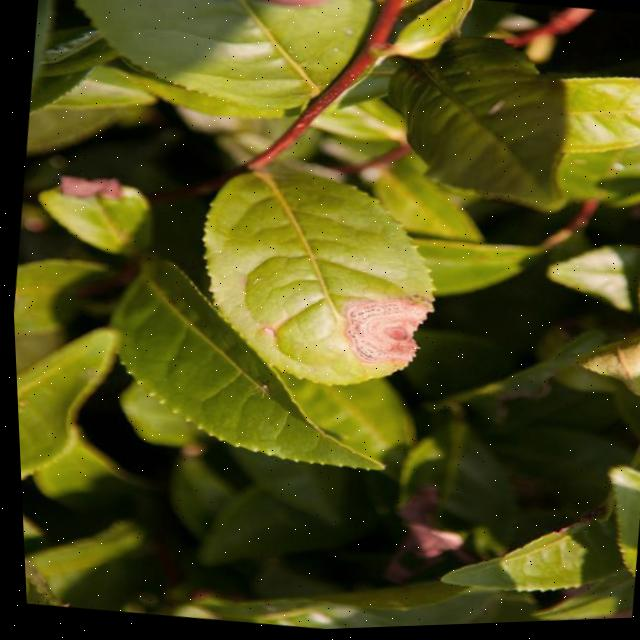Tea cloud leaf blight: (335, 289, 436, 374)
